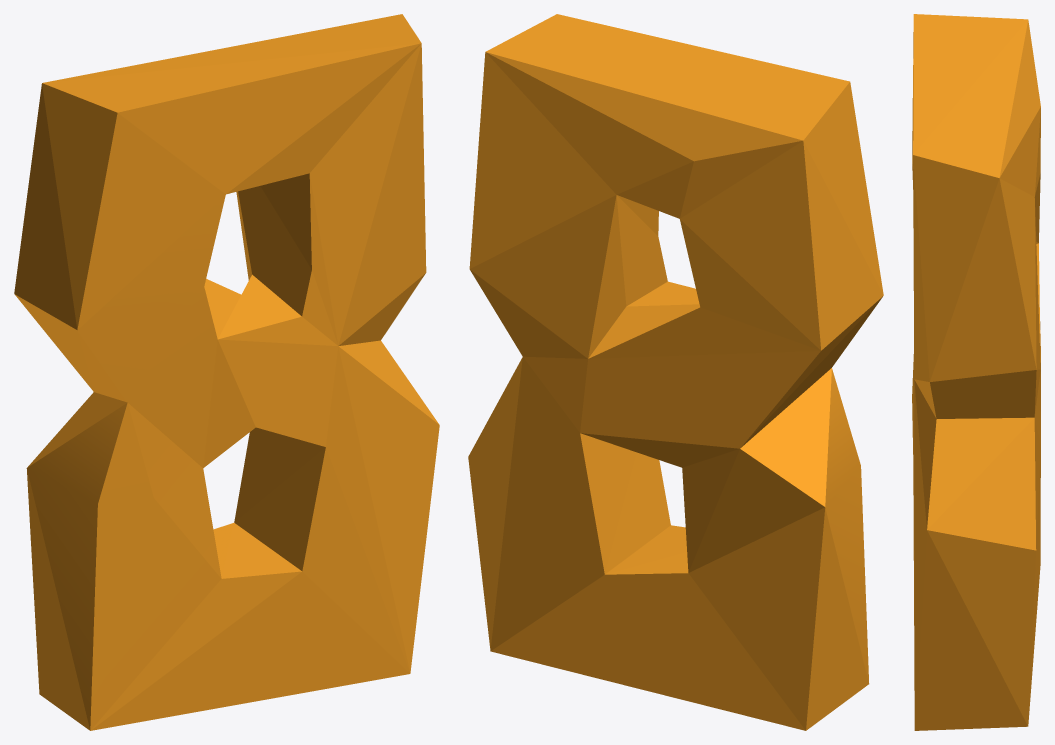
The model's file is SM_Icon_Number_8_01.fbx.
3 views of the same model, side by side, from view 1: azimuth 30°, elevation 25°; view 2: azimuth 150°, elevation 25°; view 3: azimuth 270°, elevation 25° (orthographic). The views are drawn at different scales.
Visible parts, largest first — view 1: SM_Icon_Number_8_01; view 2: SM_Icon_Number_8_01; view 3: SM_Icon_Number_8_01.
Boxes of the visible parts, <box> form: SM_Icon_Number_8_01: <box>14,14,439,730</box>; SM_Icon_Number_8_01: <box>468,14,883,730</box>; SM_Icon_Number_8_01: <box>912,14,1040,730</box>.
Bounding box in the file's own units: 32.22 × 52.86 × 10.56.
